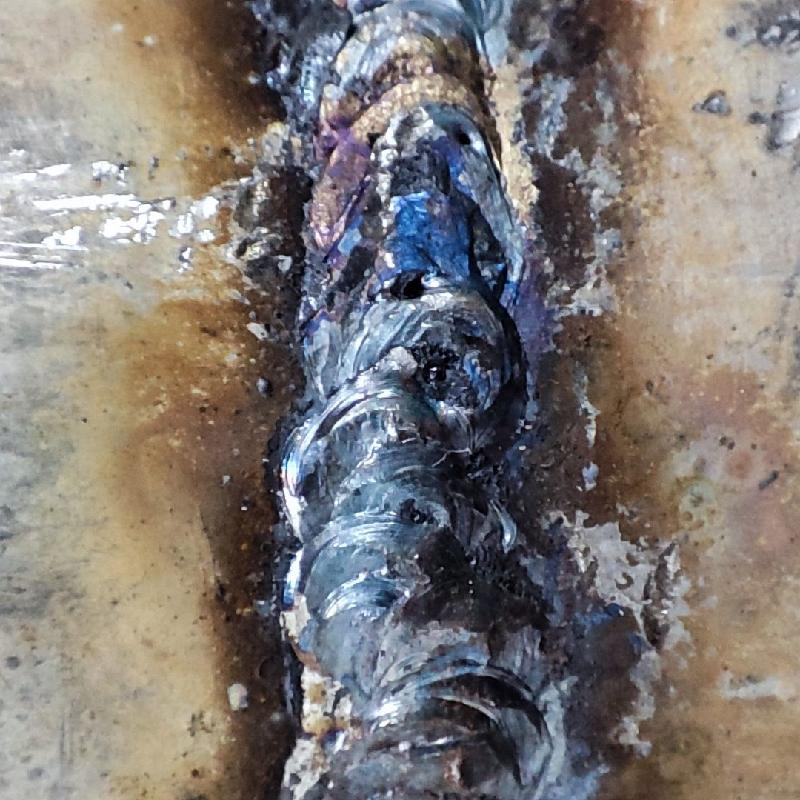Surface_pores: (378, 257, 448, 315), (413, 347, 472, 395), (448, 119, 481, 158)
